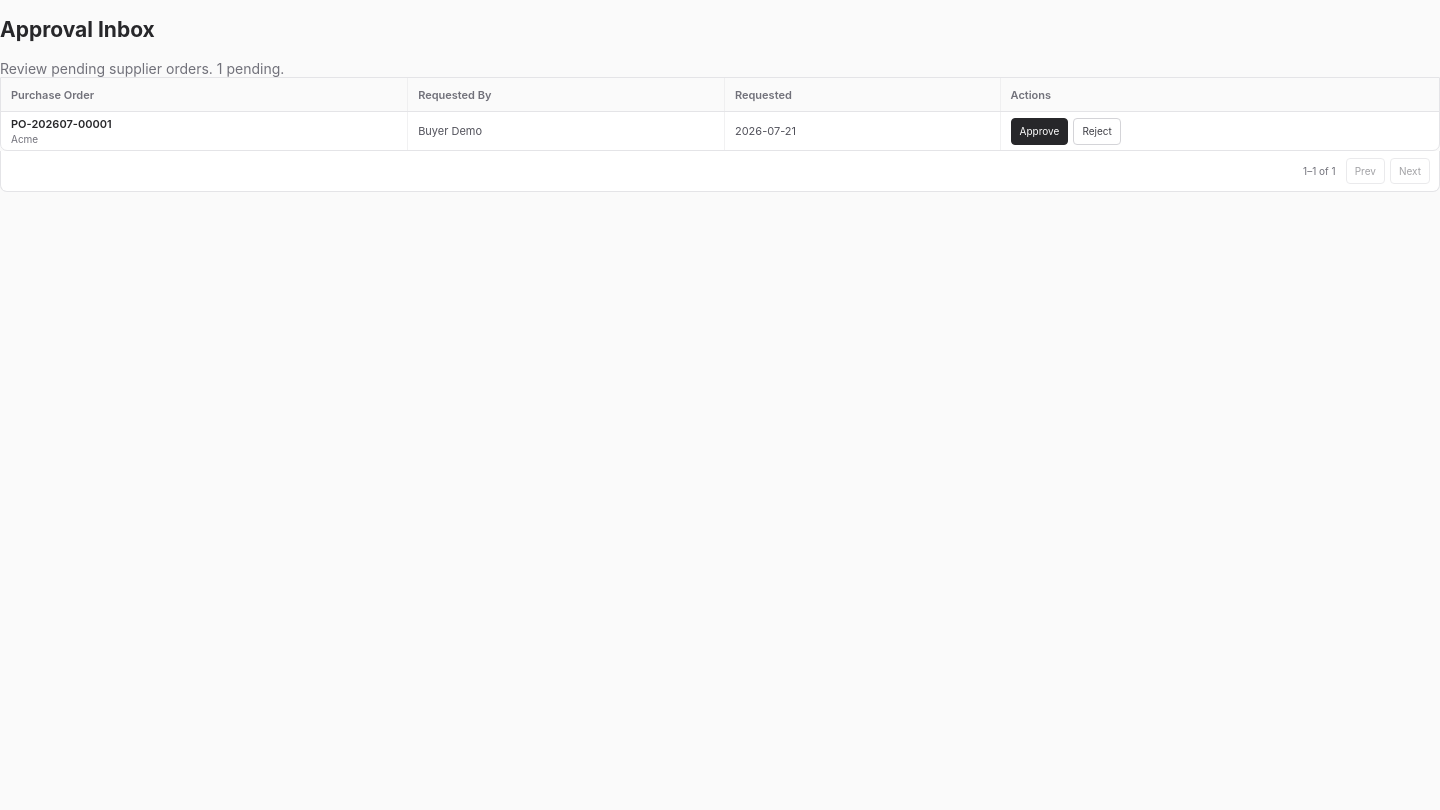
Scenario: ApprovalInbox › keeps a backend conflict visible inside the decision modal
Step 1. Click the button with aria-label "Reject PO-202607-00001" → {"x": 1097, "y": 131}, box [1073,118,1121,145]
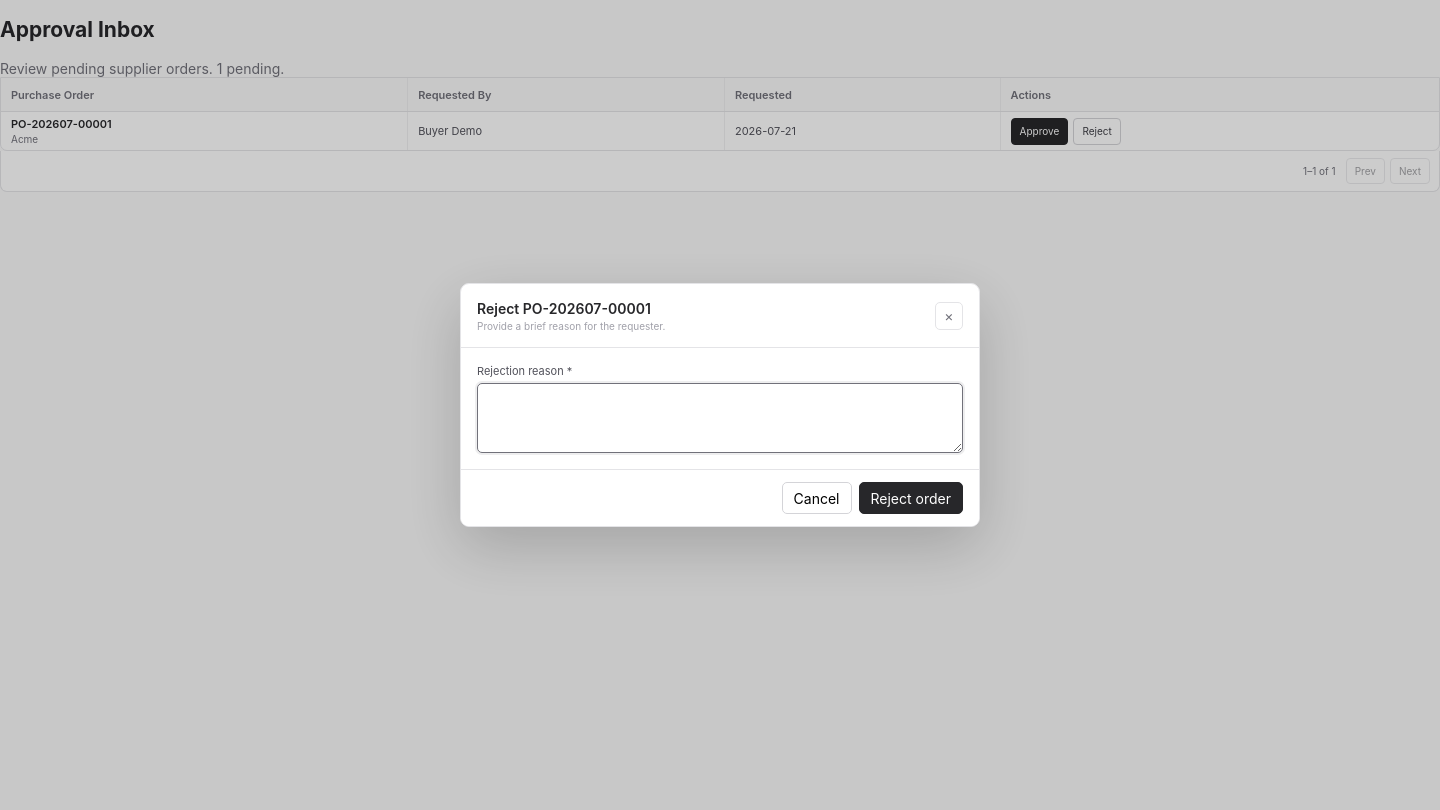
Step 2. Type "Budget unavailable" into the text box labelled "Rejection reason" → {"x": 720, "y": 418}, box [477,383,963,453]
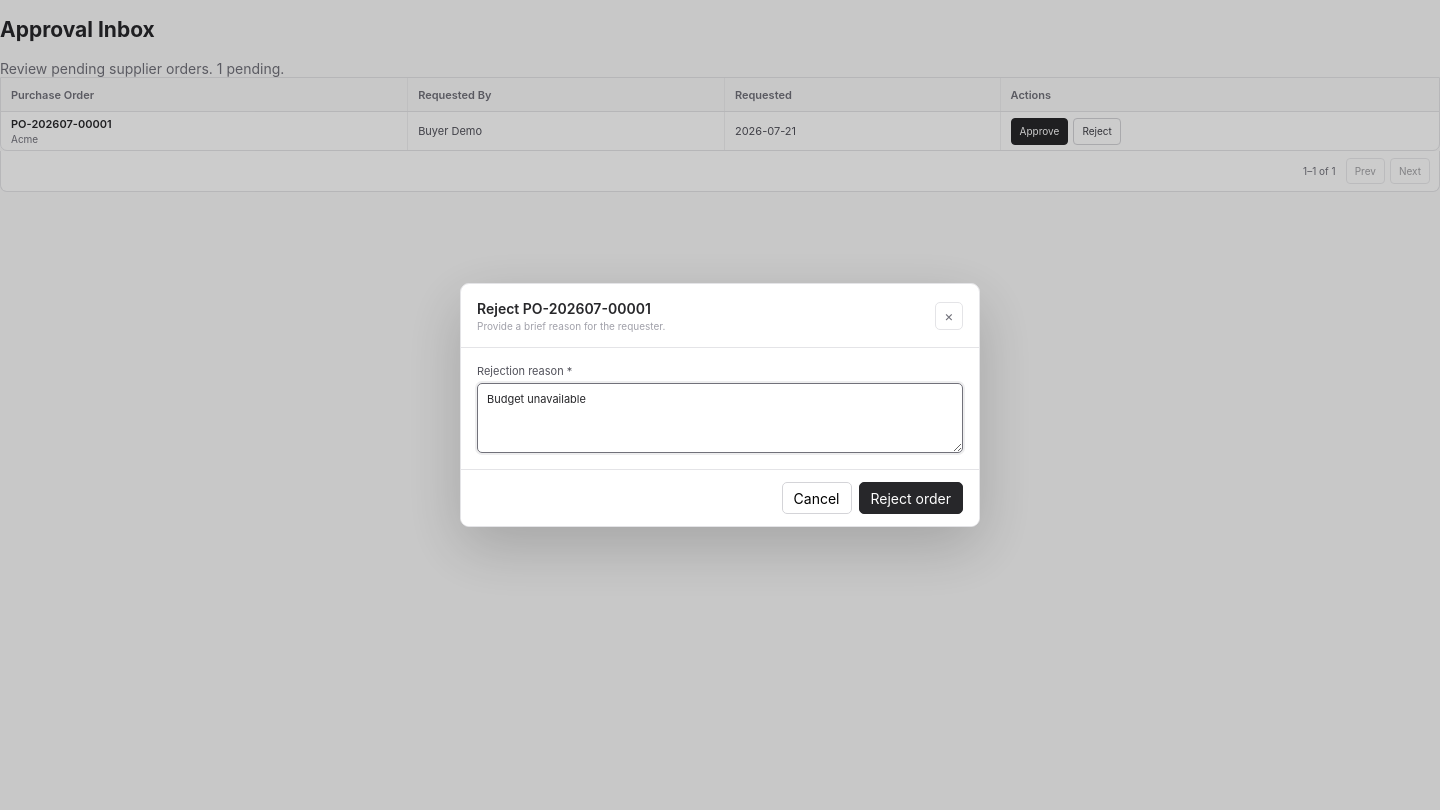
Step 3. Click the button "Reject order" → {"x": 911, "y": 498}, box [858,482,963,514]
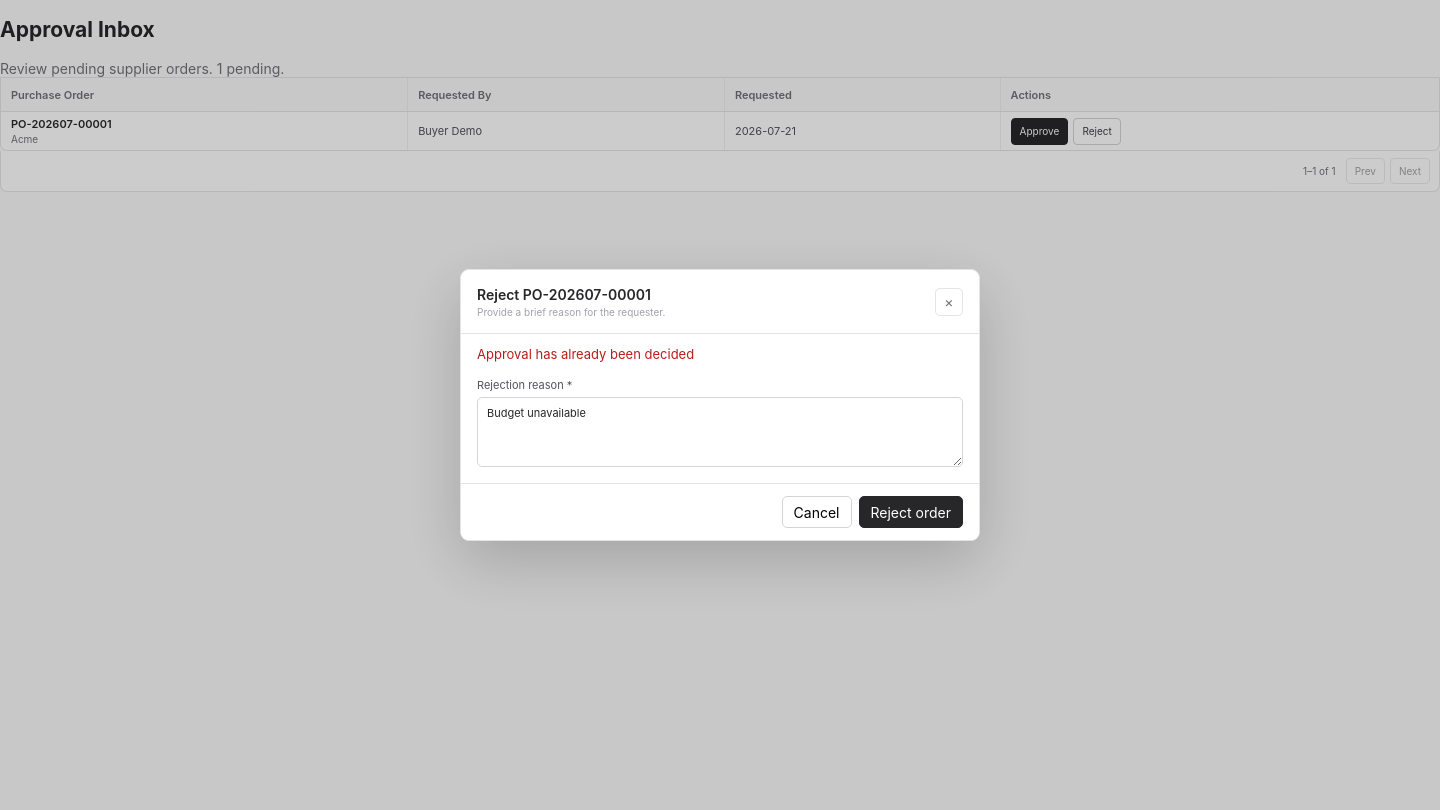
Expected: the message reads "Approval has already been decided", [477,346,694,362]
